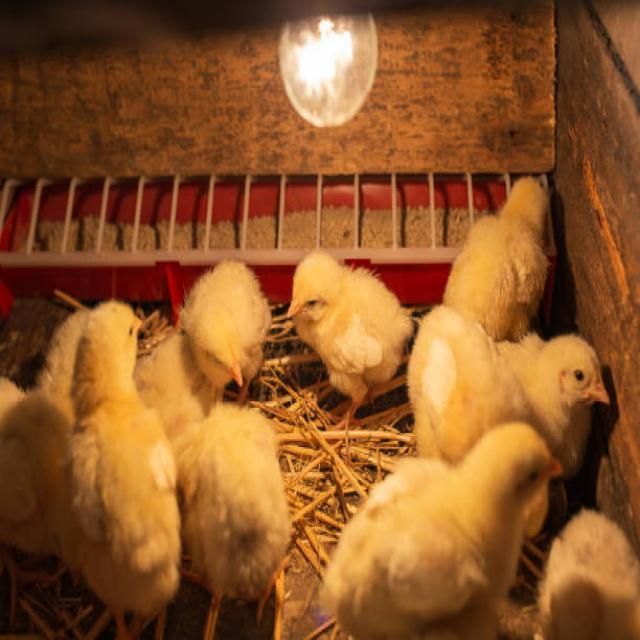Healthy: (265, 248, 413, 403), (494, 321, 615, 477)
